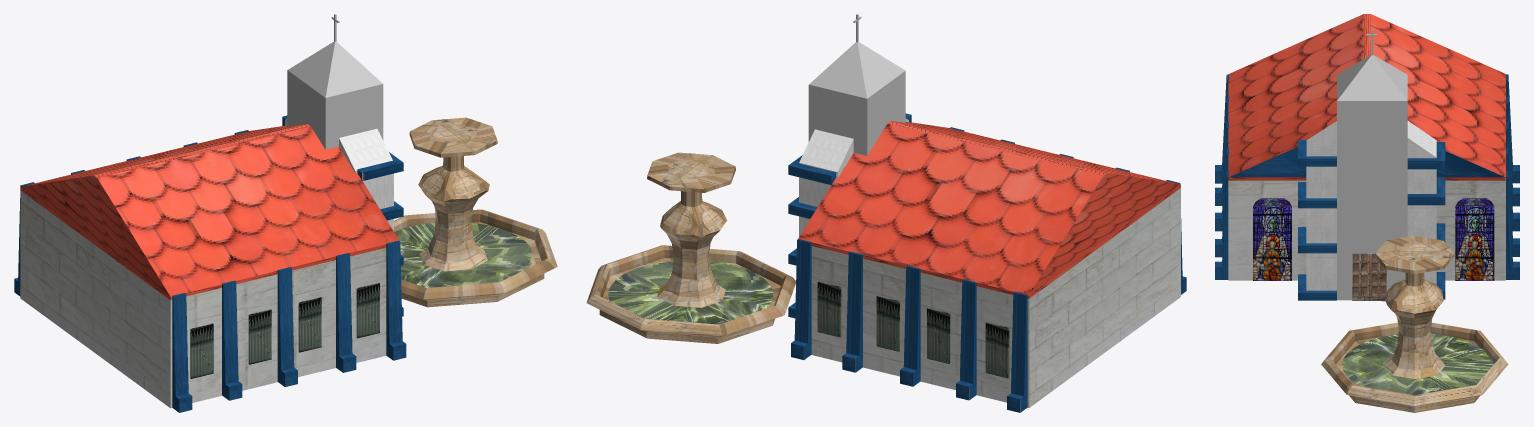
File: church model.fbx
The picture shows the model from 3 angles, left to right: view 1: azimuth 30°, elevation 25°; view 2: azimuth 150°, elevation 25°; view 3: azimuth 270°, elevation 25°; orthographic projection. The views are drawn at different scales.
Parts seen in each view (by area): view 1: Cube, Cube.032, Cube.001, Cube.012, Cube.008, Cube.011, Cube.010, Cube.009, Cube.007, Cube.025, Cube.026, Cube.024 (+2 smaller); view 2: Cube, Cube.032, Cube.001, Cube.012, Cube.002, Cube.005, Cube.006, Cube.019, Cube.004, Cube.028, Cube.031, Cube.030 (+2 smaller); view 3: Cube, Cube.032, Cube.001, Cube.012, Cube.013, Cube.023, Cube.003, Cube.002, Cube.011, Cube.018, Cube.022, Cube.017 (+11 smaller).
Boxes of the visible parts, x1,y1,x2,y2 form: Cube: (20,124,399,408); Cube.032: (394,117,557,307); Cube.001: (287,14,383,149); Cube.012: (285,118,393,230); Cube.008: (277,267,297,386); Cube.011: (386,240,406,360); Cube.010: (172,293,192,412); Cube.009: (222,280,242,400); Cube.007: (336,253,356,372); Cube.025: (298,297,321,352); Cube.026: (248,309,271,364); Cube.024: (356,283,379,338); Cube: (798,121,1180,407); Cube.032: (586,152,795,343); Cube.001: (808,14,905,155); Cube.012: (799,118,908,236); Cube.002: (791,239,811,359); Cube.005: (900,265,920,386); Cube.006: (956,279,976,400); Cube.019: (1007,291,1027,412); Cube.004: (842,251,862,372); Cube.028: (817,281,841,337); Cube.031: (985,322,1009,378); Cube.030: (927,308,950,363); Cube: (1228,14,1505,280); Cube.032: (1321,235,1508,412); Cube.001: (1337,29,1407,300); Cube.012: (1306,121,1436,290); Cube.013: (1455,198,1494,280); Cube.023: (1253,198,1291,280); Cube.003: (1352,253,1386,301); Cube.002: (1506,171,1519,279); Cube.011: (1215,171,1228,279); Cube.018: (1407,177,1445,205); Cube.022: (1407,142,1445,169); Cube.017: (1298,140,1336,166).
Bounding box in the file's own units: 29010 × 17924 × 17401.
